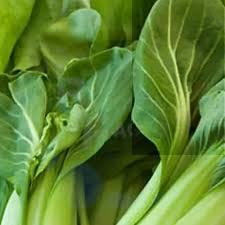Healthy-Pechay: (0, 74, 225, 225), (2, 0, 225, 103)
